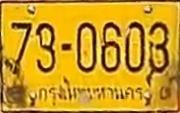0: (124, 21, 145, 72), (77, 21, 96, 72)
3: (36, 22, 56, 72), (148, 22, 168, 72)
6: (100, 21, 122, 72)
7: (10, 22, 31, 74)
BKK: (35, 81, 149, 107)
